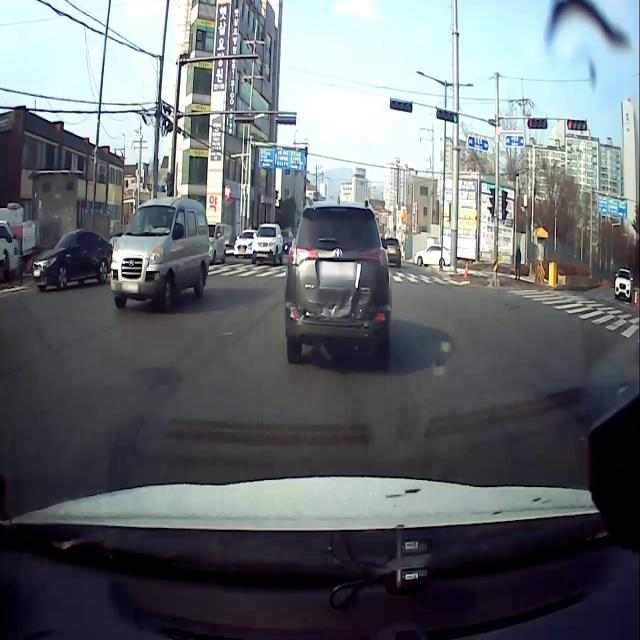Green Light: (452, 111, 458, 123)
Red Light: (528, 119, 533, 128), (568, 120, 572, 130)
